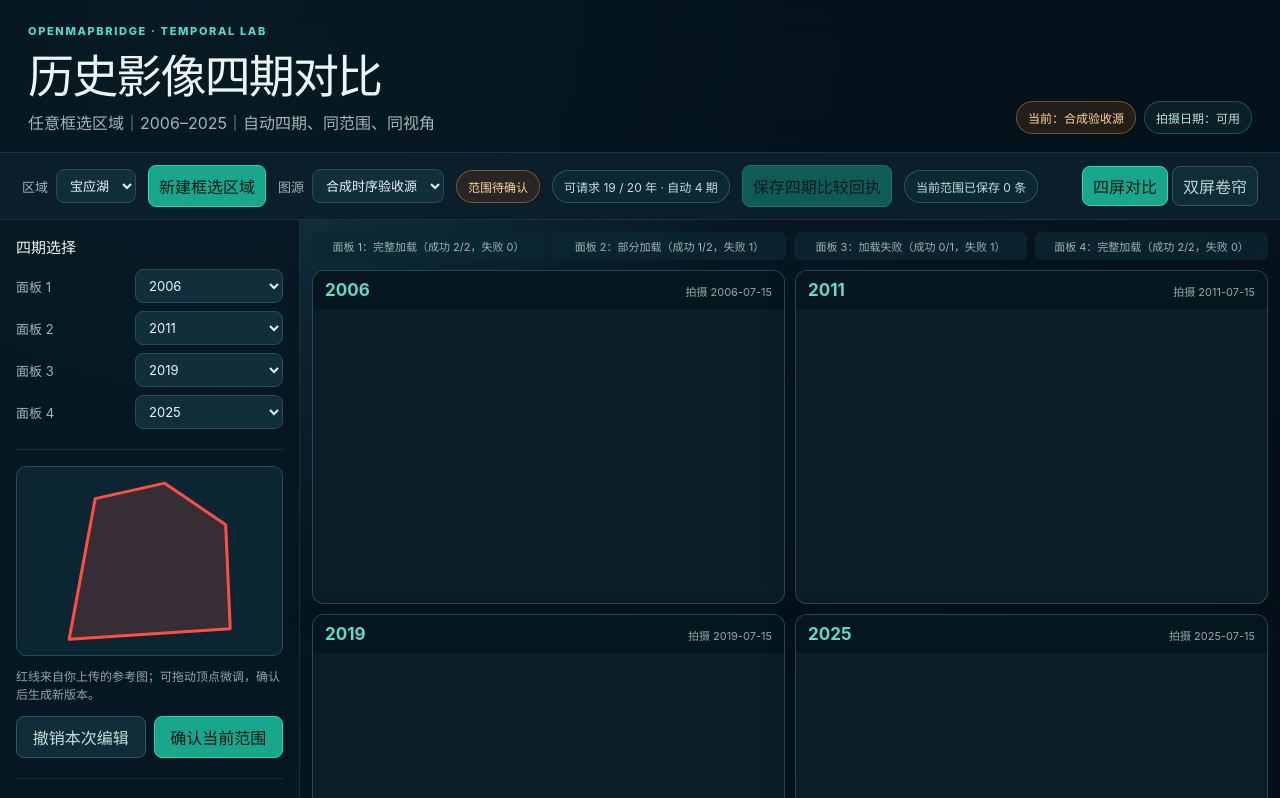
HistoryWorkspace › confirms a reference AOI as a new immutable version
Click the button "确认当前范围" at (218,737), box [154,716,283,758]
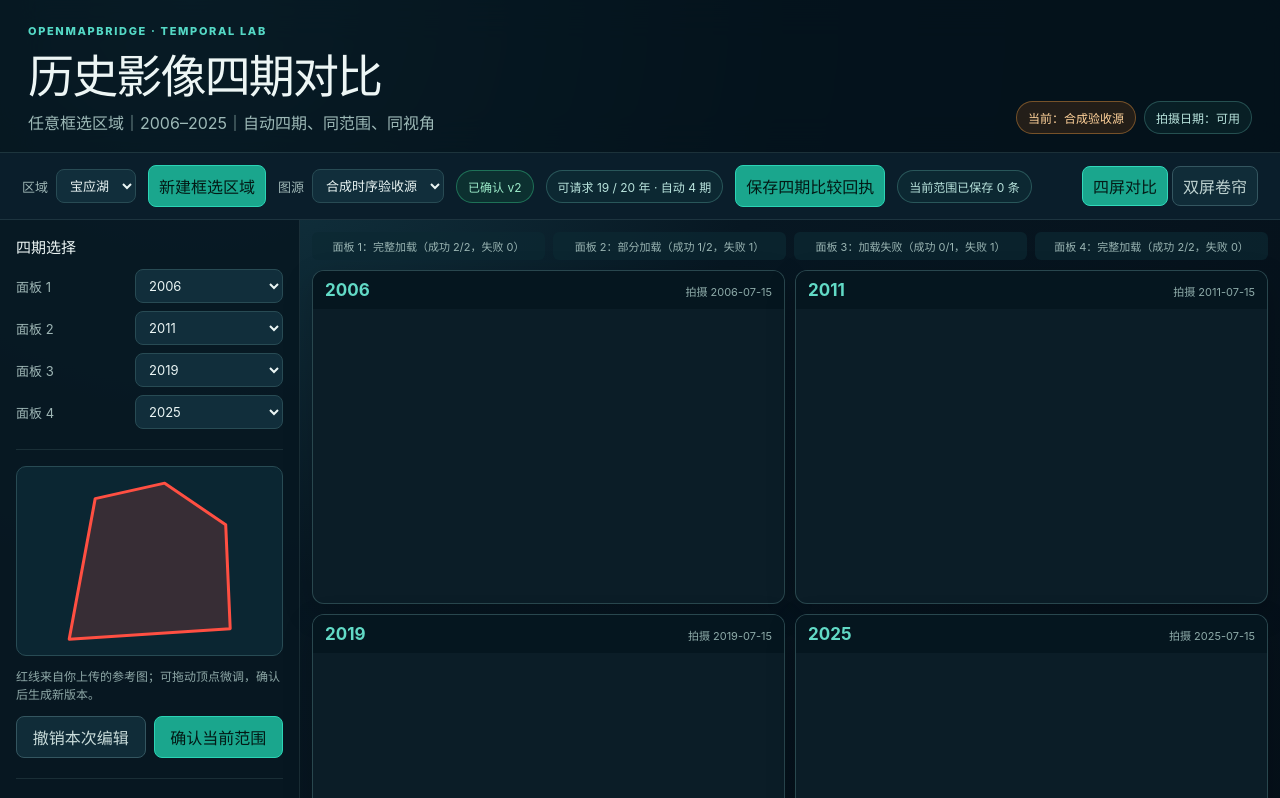
Expected: the text "已确认 v2" is shown, [456,170,534,202]
